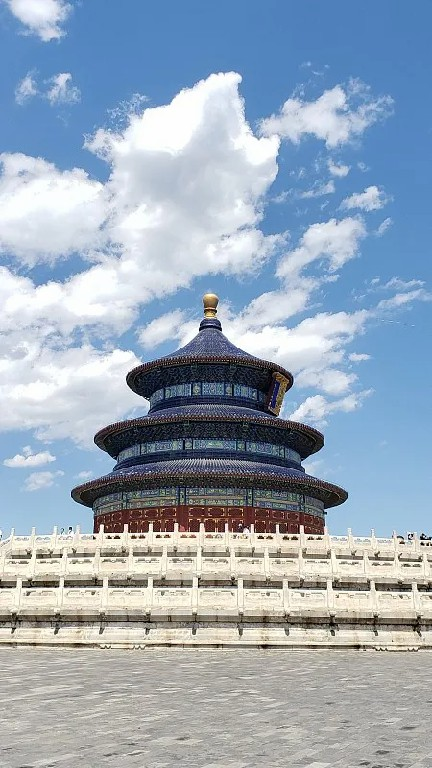Heaven: (69, 289, 350, 537)
